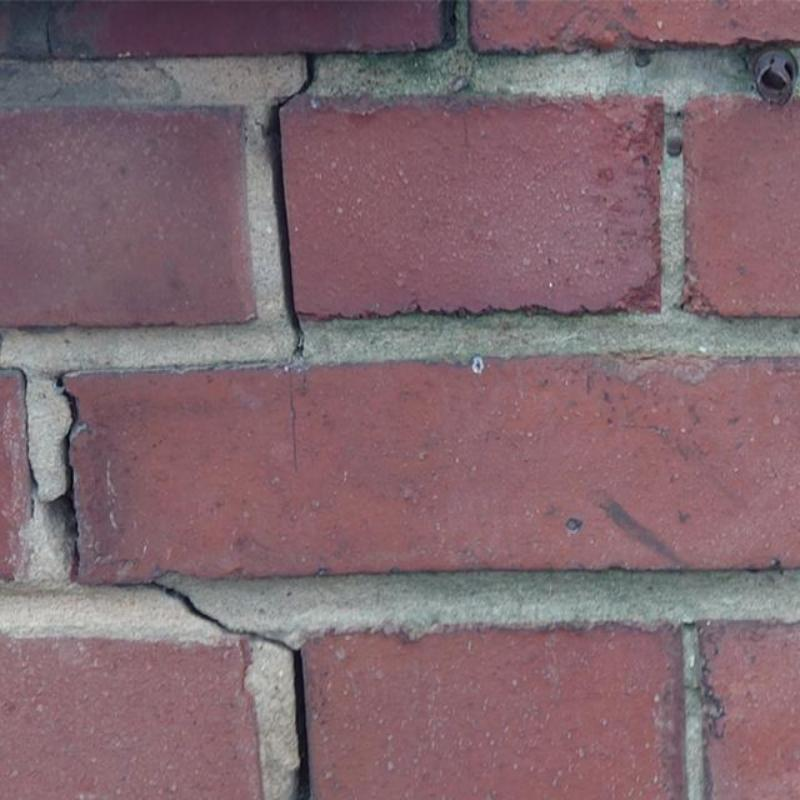pothole: (111, 581, 312, 799), (268, 54, 317, 358), (50, 369, 81, 580), (0, 366, 39, 519)
